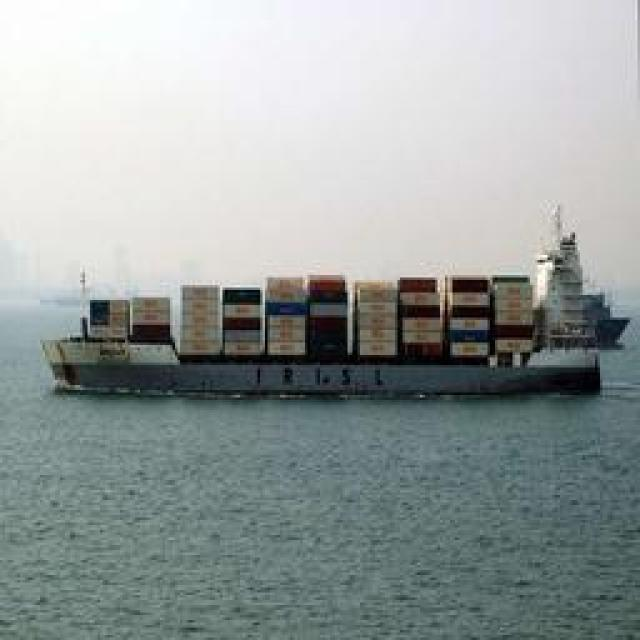CIV_Ship: (29, 220, 626, 405)
